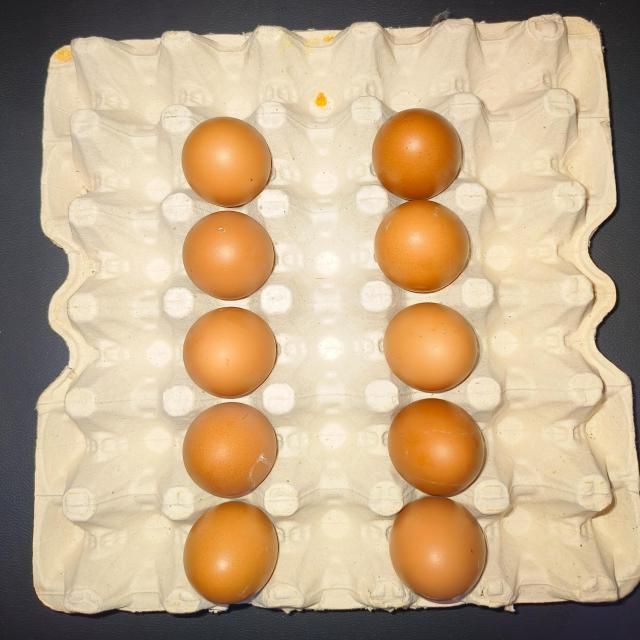Eggs: (391, 396, 516, 495), (394, 495, 492, 604), (374, 196, 482, 292), (181, 502, 281, 602), (184, 403, 286, 498), (184, 308, 290, 397), (176, 112, 272, 206), (389, 300, 484, 394), (185, 214, 277, 298), (378, 110, 462, 195)
